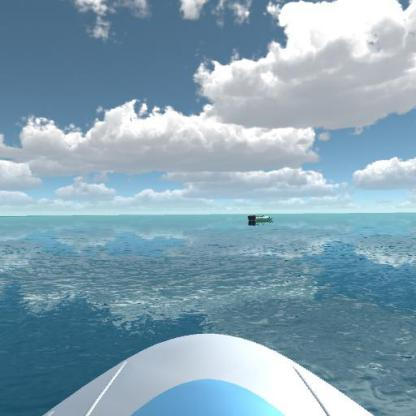usv0: (247, 210, 276, 227)
